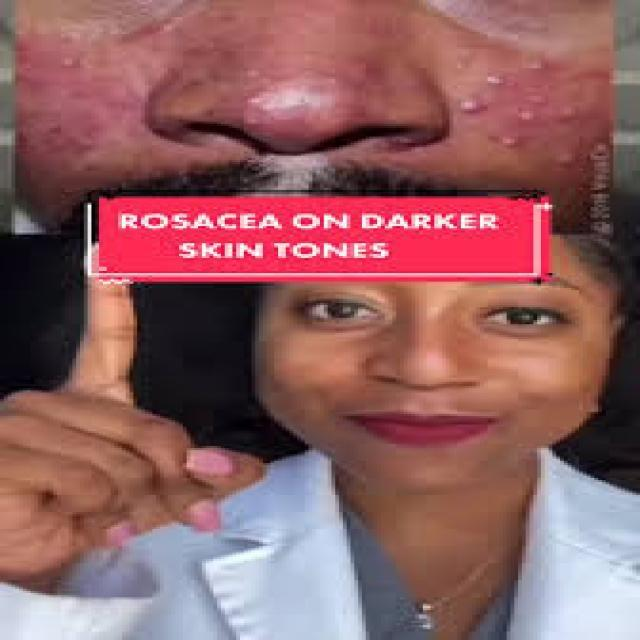Rosacea: (183, 26, 391, 130), (11, 38, 137, 188), (450, 42, 584, 178)
